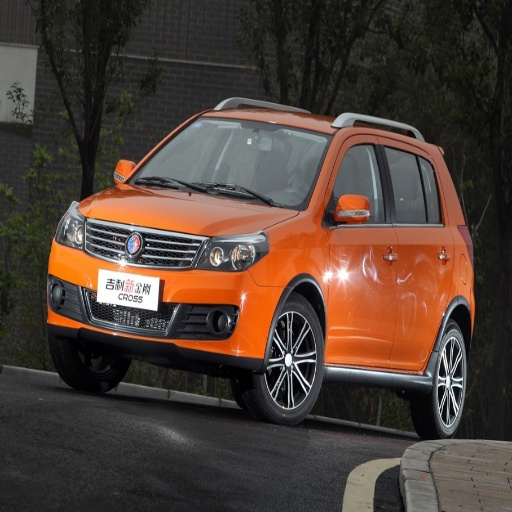front_bumper: (50, 218, 284, 363)
front_glass: (122, 116, 333, 210)
front_left_door: (325, 135, 397, 367)
